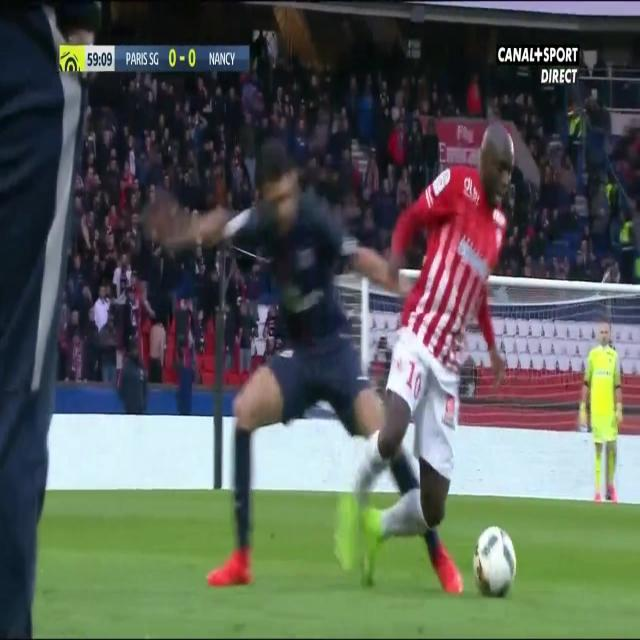Ball: (472, 524, 518, 598)
Player: (137, 128, 467, 596), (332, 118, 521, 583), (579, 322, 625, 508)
